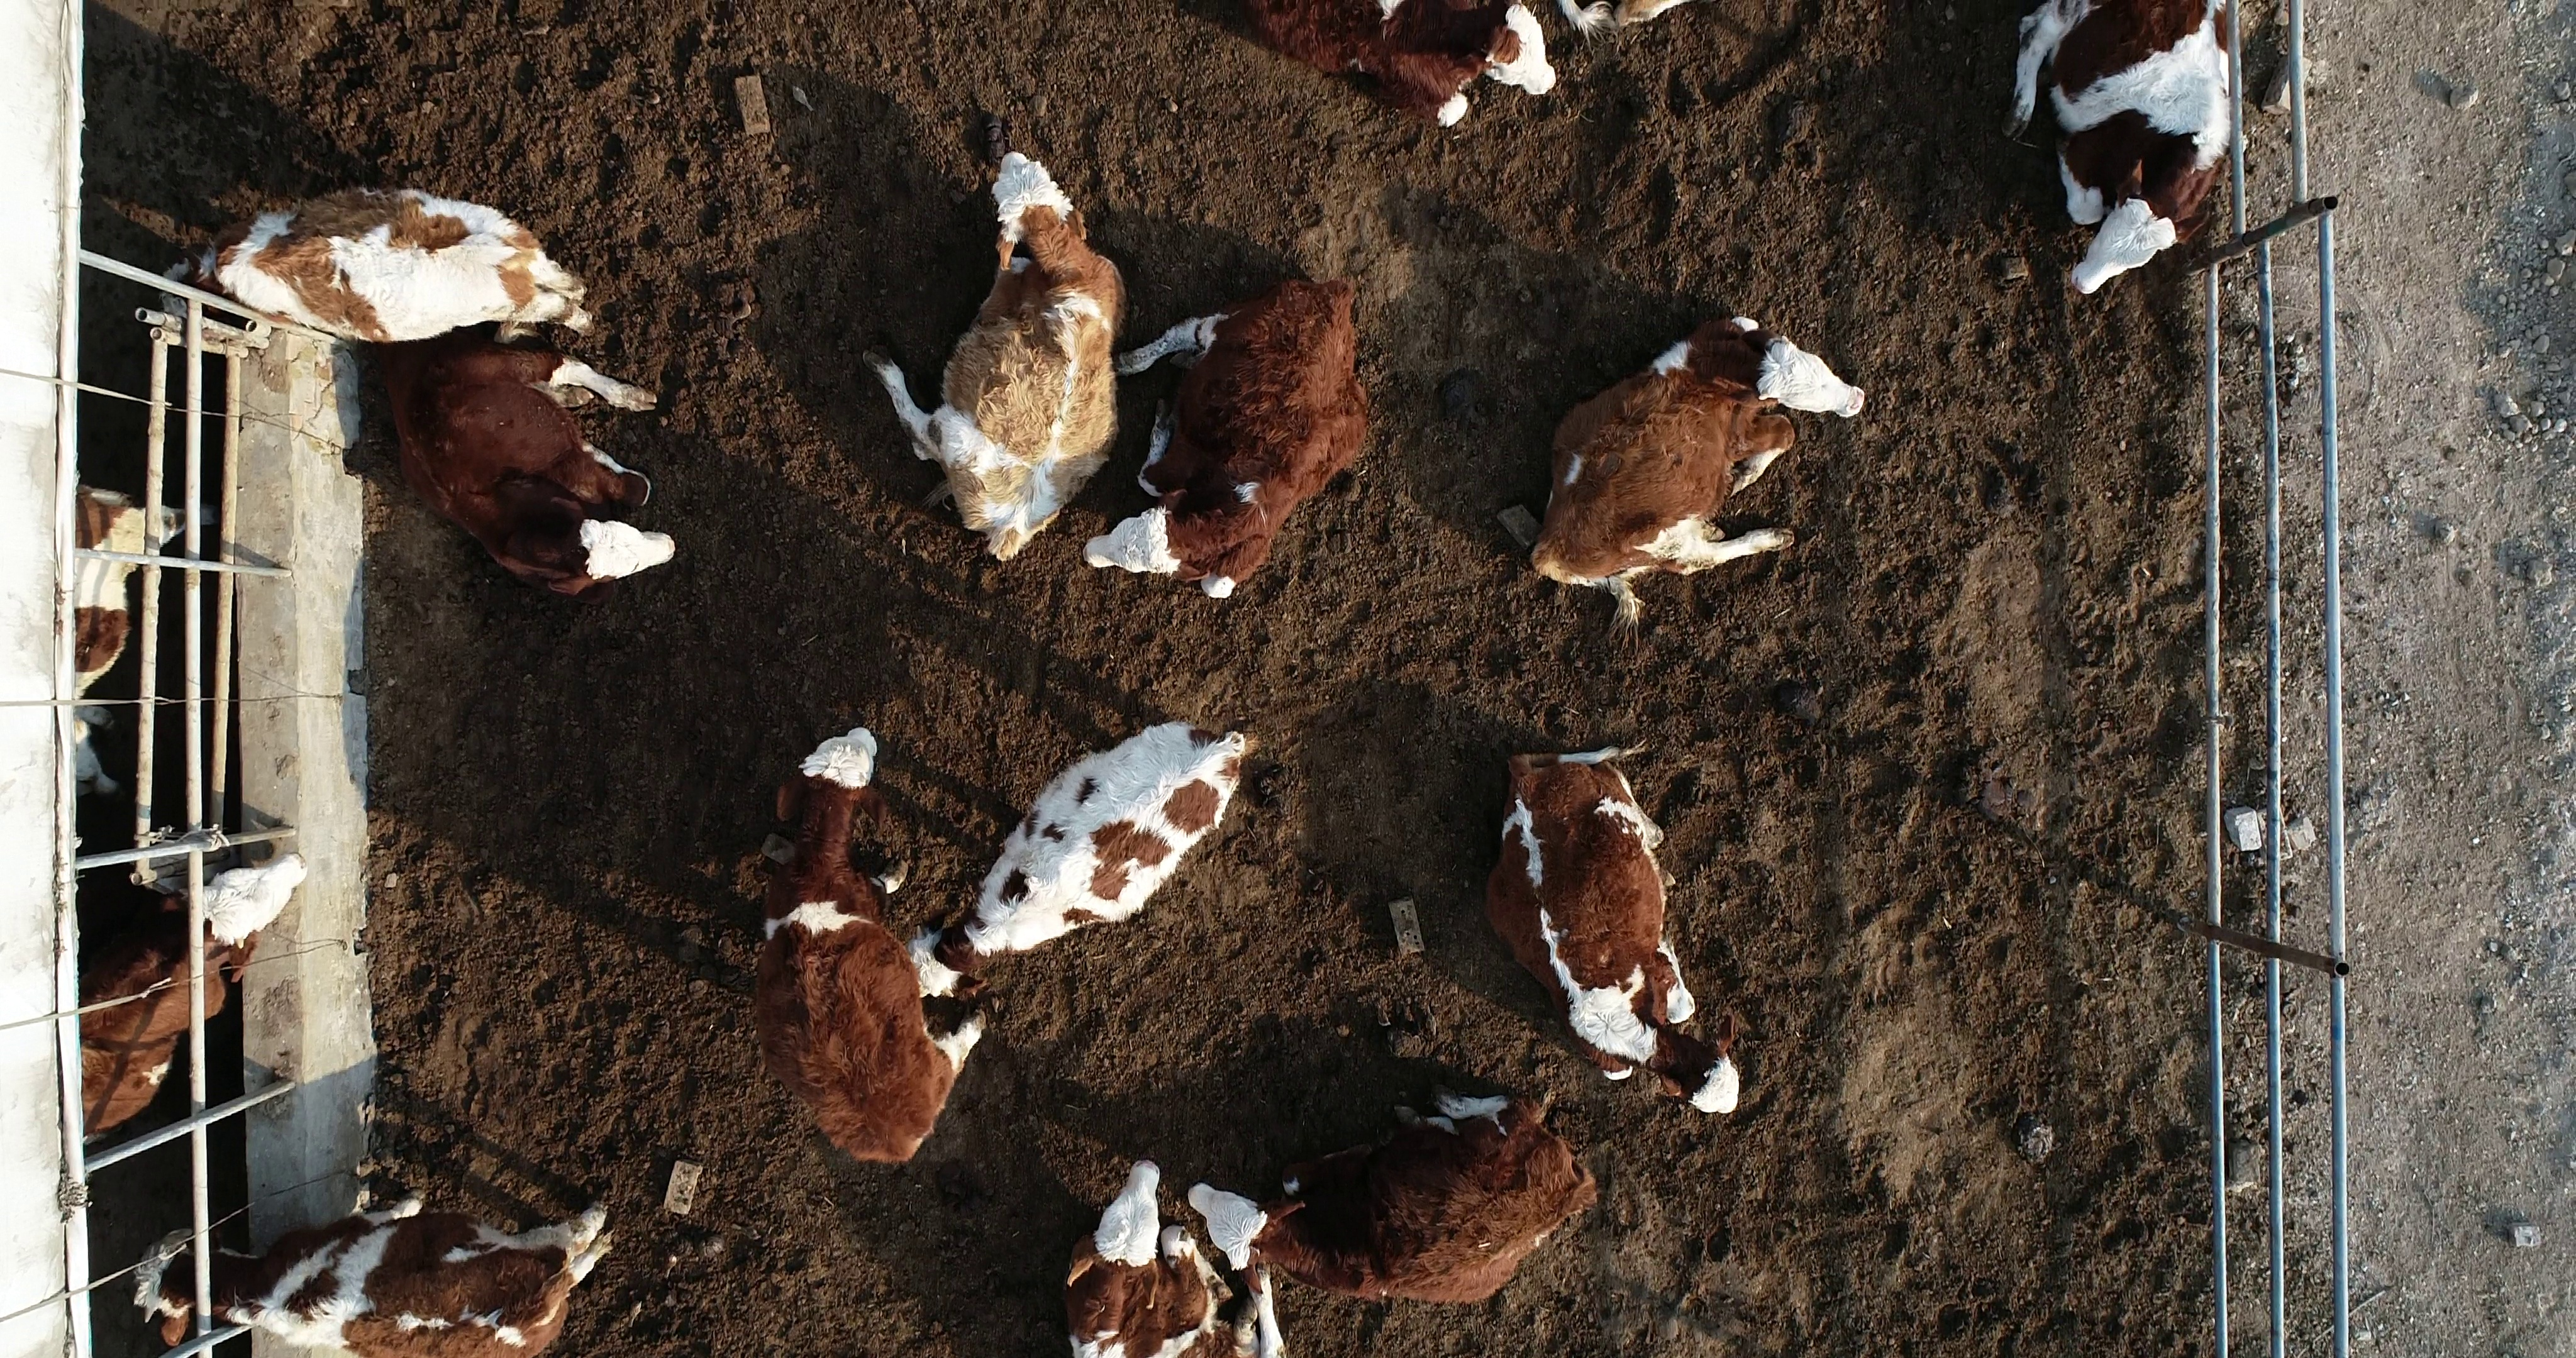cattle: (1521, 310, 1871, 659), (859, 147, 1131, 566), (750, 724, 993, 1169), (896, 716, 1264, 1007), (1477, 739, 1745, 1116), (1077, 276, 1373, 605), (148, 184, 601, 348)
